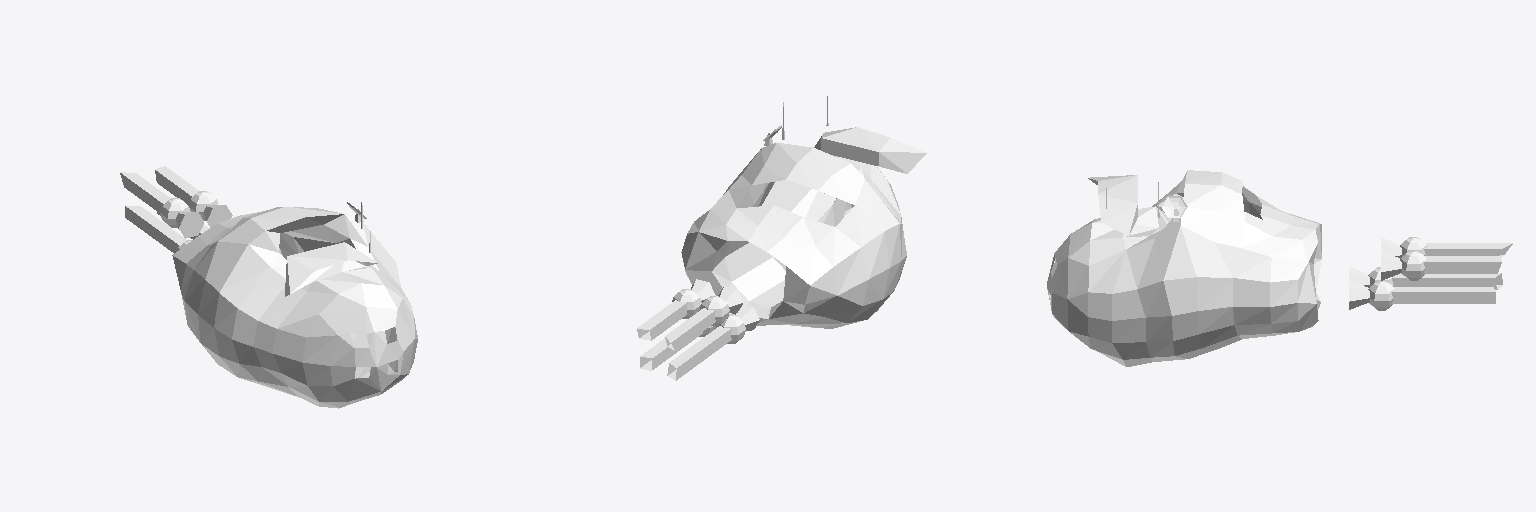
Rendered from cap501.obj.
3 renders of one model, left to right at view 1: azimuth 30°, elevation 25°; view 2: azimuth 150°, elevation 25°; view 3: azimuth 270°, elevation 25°, orthographic.
Parts seen in each view (by area): view 1: frm-skin2, frm-skin2_1, frm-cube2, frm-cube1, frm-cube1_3, frm-cube1_1, frm-nozzle1_3, frm-engine_shpere1_1; view 2: frm-skin2, frm-cube2, frm-cube1, frm-cube1_3, frm-cube1_1, frm-cube1_2; view 3: frm-skin2, frm-cube2, frm-cube1_2, frm-skin2_1, frm-cube1_1, frm-cube1, frm-cube1_3, frm-engine_shpere1_3, frm-engine_shpere1.
Boxes of the visible parts, x1=… form: frm-skin2: x1=172, y1=207, x2=417, y2=408; frm-skin2_1: x1=330, y1=307, x2=414, y2=401; frm-cube2: x1=285, y1=242, x2=377, y2=296; frm-cube1: x1=125, y1=206, x2=186, y2=253; frm-cube1_3: x1=120, y1=172, x2=170, y2=212; frm-cube1_1: x1=155, y1=166, x2=198, y2=204; frm-nozzle1_3: x1=176, y1=212, x2=203, y2=238; frm-engine_shpere1_1: x1=160, y1=198, x2=190, y2=227; frm-skin2: x1=681, y1=143, x2=906, y2=328; frm-cube2: x1=814, y1=127, x2=926, y2=173; frm-cube1: x1=667, y1=326, x2=731, y2=380; frm-cube1_3: x1=665, y1=308, x2=715, y2=351; frm-cube1_1: x1=637, y1=300, x2=687, y2=340; frm-cube1_2: x1=640, y1=332, x2=702, y2=370; frm-skin2: x1=1067, y1=170, x2=1321, y2=366; frm-cube2: x1=1088, y1=175, x2=1137, y2=235; frm-cube1_2: x1=1392, y1=287, x2=1495, y2=303; frm-skin2_1: x1=1047, y1=234, x2=1070, y2=330; frm-cube1_1: x1=1424, y1=256, x2=1501, y2=273; frm-cube1: x1=1392, y1=273, x2=1502, y2=289; frm-cube1_3: x1=1424, y1=243, x2=1512, y2=257; frm-engine_shpere1_3: x1=1368, y1=281, x2=1394, y2=310; frm-engine_shpere1: x1=1400, y1=251, x2=1426, y2=280.
Size of the model in its own units: 8.36 by 8.9 by 18.81.